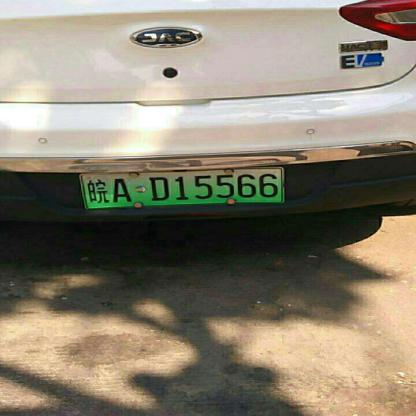lp: (81, 169, 281, 207)
